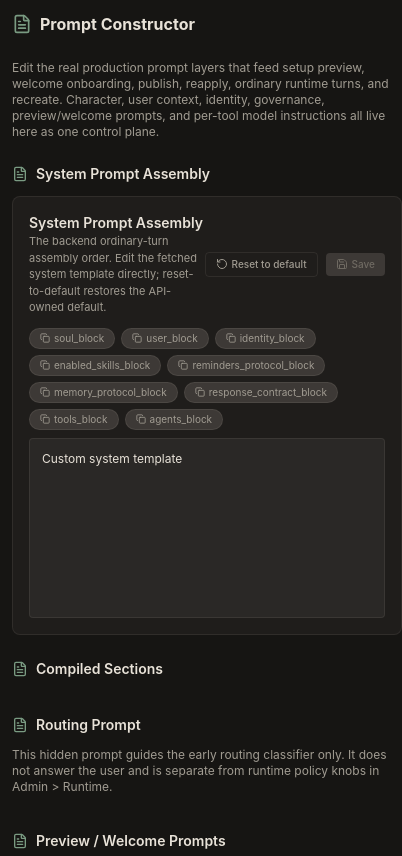
it: AdminPresetsPage tool prompt defaults › resets prompt templates through the API and refreshes the editor text
expect the text box "Custom system template" is shown: met, box [29,438,385,618]
Click the button "Reset to default". click: (261, 264)
box: [205,252,318,277]
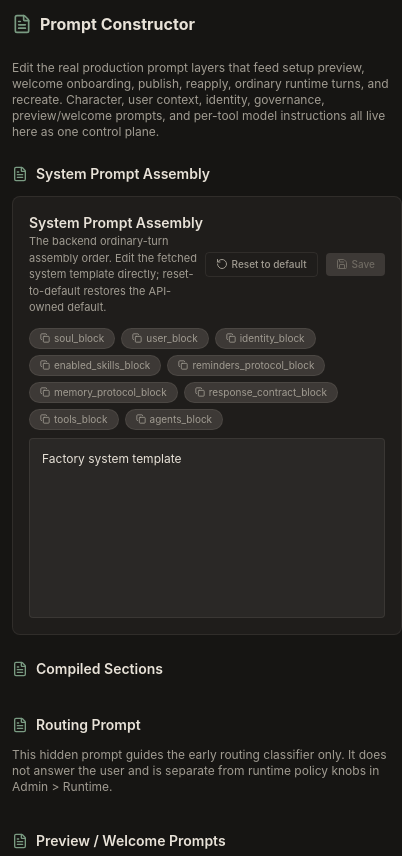
expect the text box "Factory system template" is shown: met, box [29,438,385,618]
expect the text box "Custom system template" is gone: met
